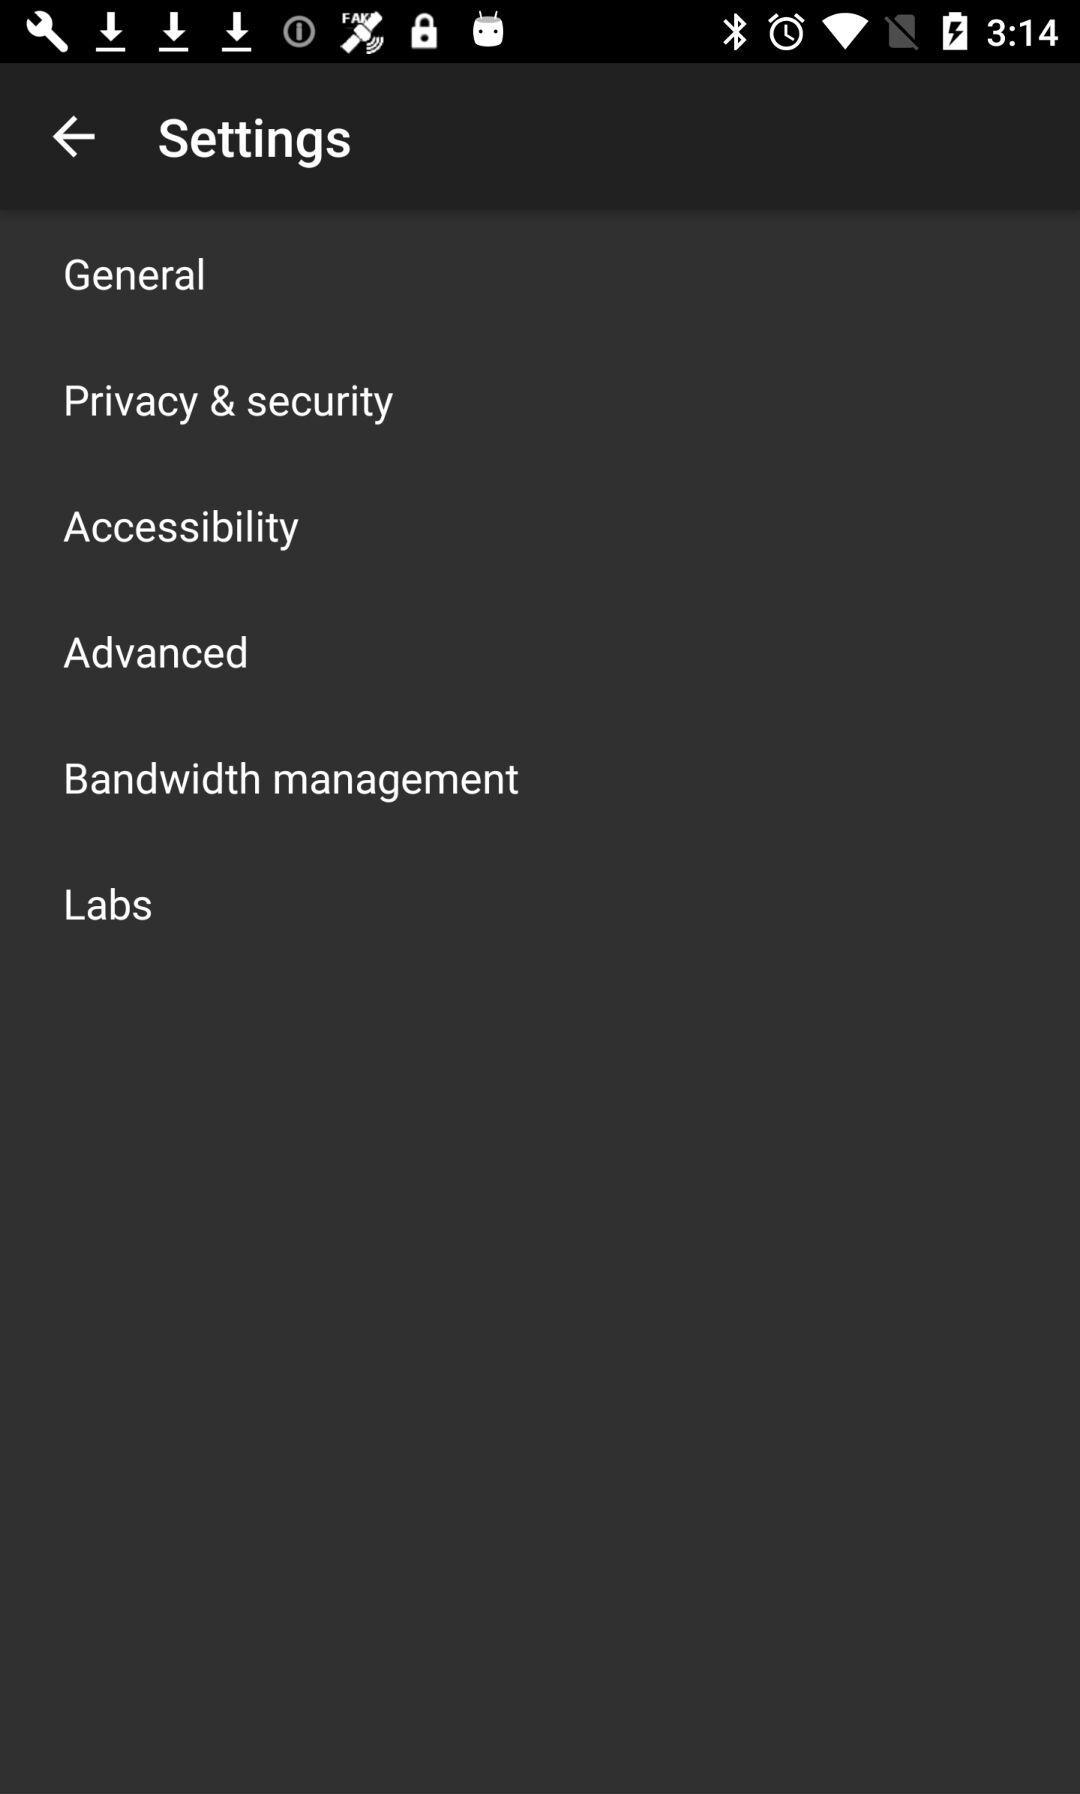Icon: (53, 115, 97, 159)
Text: (67, 761, 520, 803), (67, 384, 395, 427), (159, 117, 352, 170), (64, 509, 301, 552), (64, 636, 249, 670), (65, 258, 205, 292), (67, 887, 152, 923)
Toolbar: (1, 64, 1080, 211)
UpperTaskBar: (1, 1, 1080, 64)
